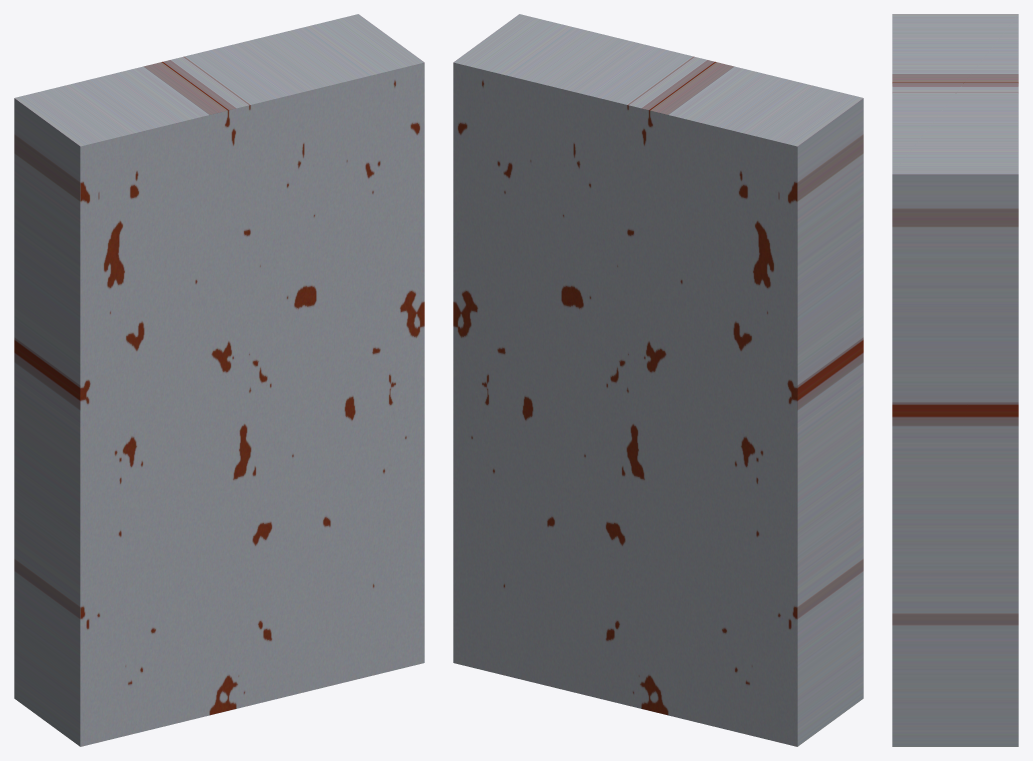
File: preservation_test.glb
The picture shows the model from 3 angles, left to right: view 1: azimuth 30°, elevation 25°; view 2: azimuth 150°, elevation 25°; view 3: azimuth 270°, elevation 25°; orthographic projection. The views are drawn at different scales.
Visible parts, largest first — view 1: geometry_0; view 2: geometry_0; view 3: geometry_0.
Part boxes in pixels (<box>): geometry_0: <box>14,14,424,746</box>; geometry_0: <box>453,14,863,746</box>; geometry_0: <box>892,14,1018,746</box>.
Bounding box in the file's own units: 1.5 × 2.5 × 0.5.
Materials: 1 (1 with a texture image).
